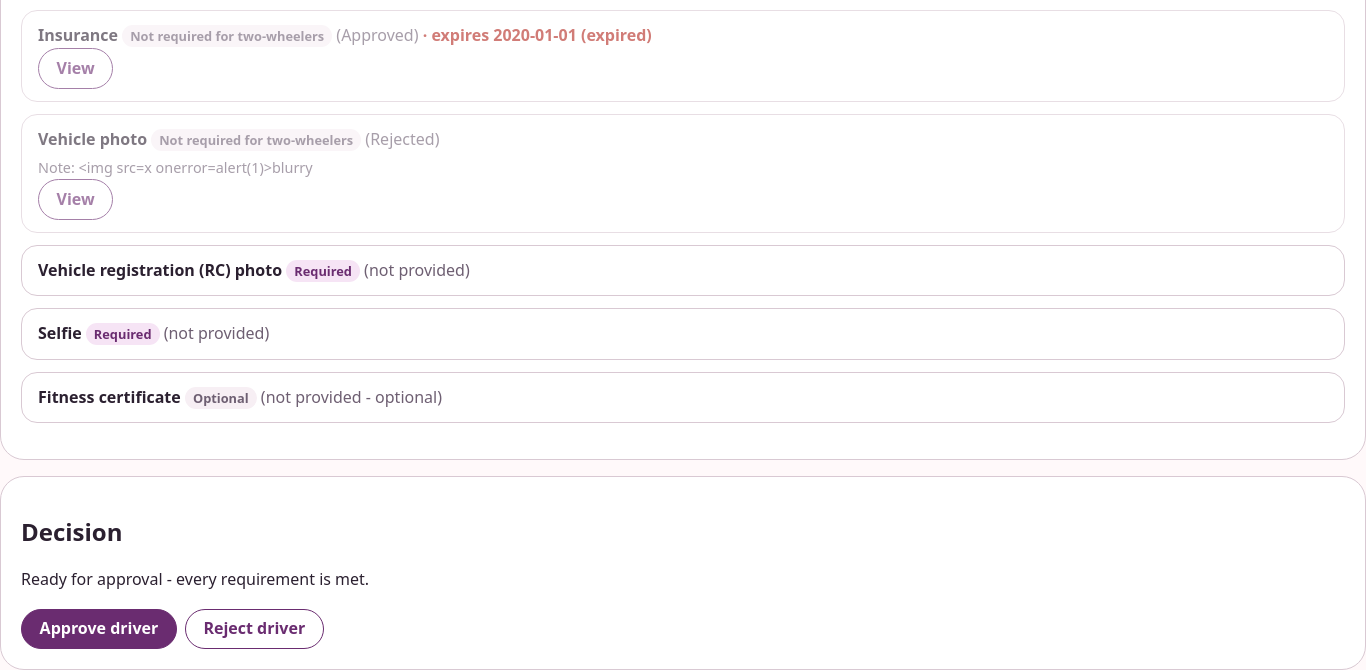
DriverReview › the decision panel › asks for confirmation, then replaces the buttons with the outcome and a success message
This screenshot has width=1366, height=670.
(page scrolled)
What coordinates should you click on to do the following:
click the button "Approve driver"
I would click on:
 (99, 629)
Its box is [21,609,177,649].
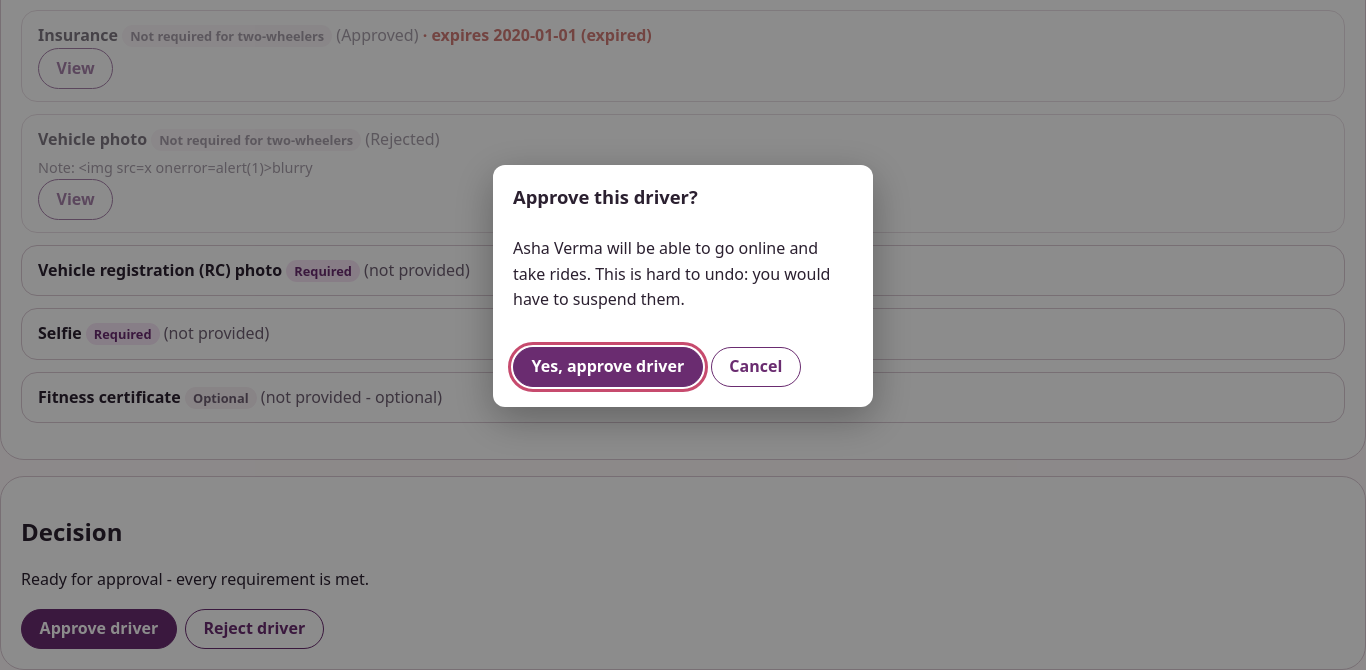
Expected: the dialog "Approve this driver?" is shown, [493,165,873,407]
What coordinates should you click on to do the following:
click the button "Yes, approve driver"
I would click on:
 (608, 367)
Its box is [513,346,703,387].
(page scrolled)
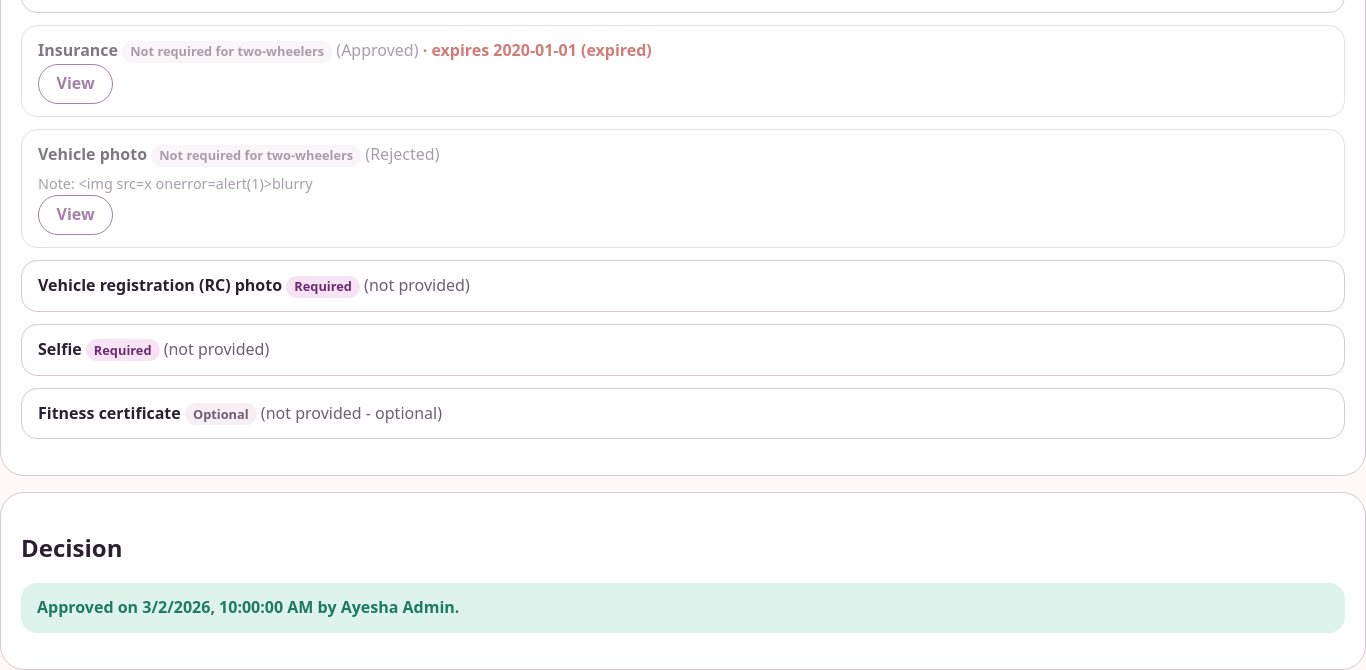
Expected: the text "Approved on 3/2/2026, 10:00:00 AM by Ayesha Admin." is shown, [21,583,1345,632]
Expected: the text "Ready for approval" is gone
Expected: the button "Approve driver" is gone
